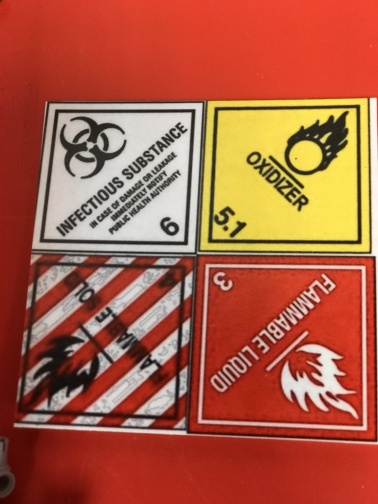FlammableLiquid: (189, 255, 378, 441)
FlammableSolid: (13, 254, 196, 431)
InfectiousSubstance: (31, 100, 204, 255)
Oxidizer: (202, 101, 372, 254)
